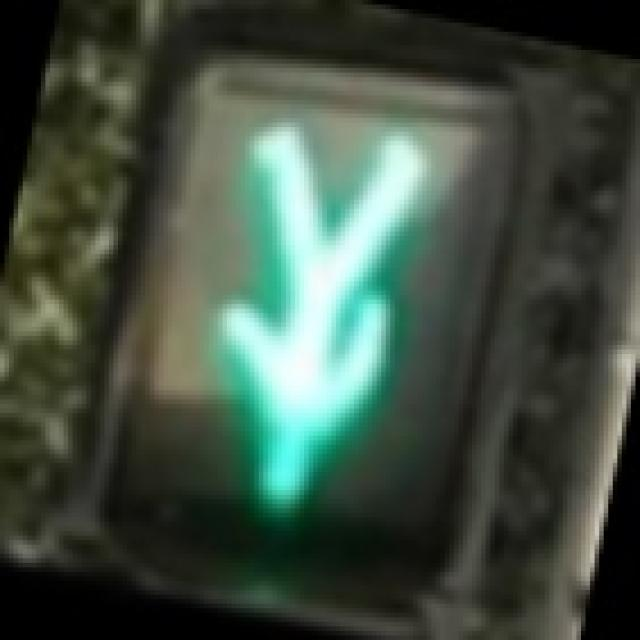green_light: (104, 73, 513, 558)
